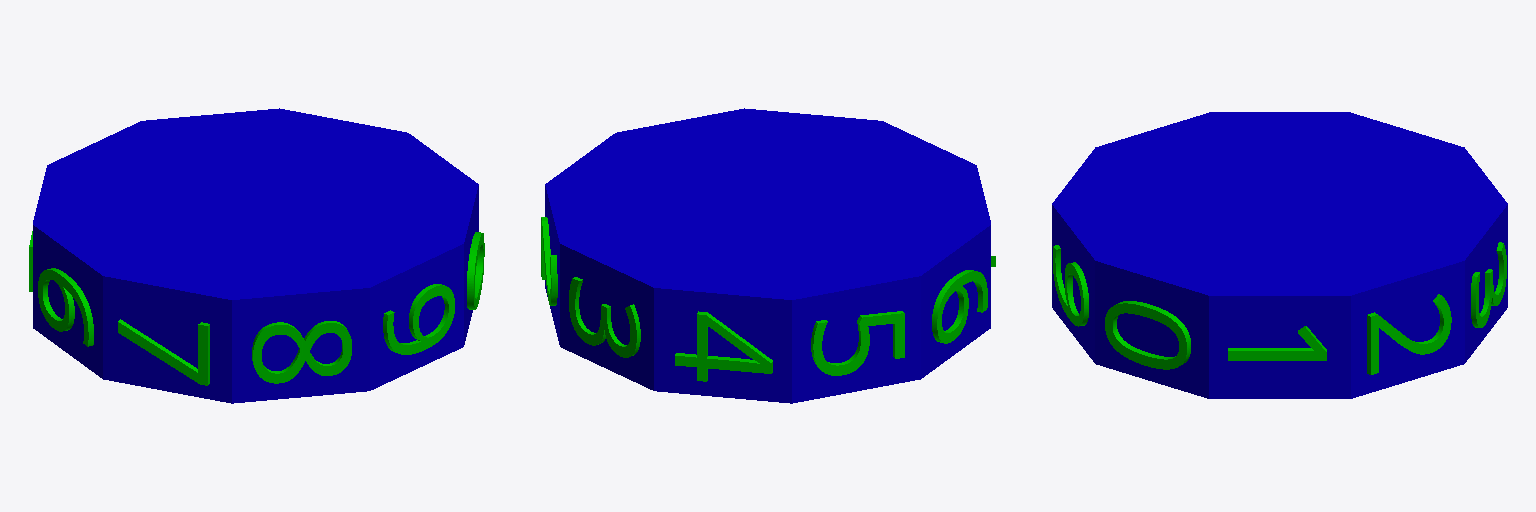
File: rotate_cylinder.obj
The picture shows the model from 3 angles: view 1: azimuth 30°, elevation 25°; view 2: azimuth 150°, elevation 25°; view 3: azimuth 270°, elevation 25°; orthographic projection.
Visible parts, largest first — view 1: Cylinder, Text.007, Text.008, Text.005, Text.006, Text.009; view 2: Cylinder, Text.003, Text.004, Text.002, Text.005, Text.001; view 3: Cylinder, Text.009, Text.001, Text.008, Text, Text.002.
Part boxes in pixels (x1,y1,x2,y2): Cylinder: (33, 108, 478, 403); Text.007: (252, 321, 351, 383); Text.008: (383, 284, 454, 354); Text.005: (38, 268, 93, 346); Text.006: (118, 319, 209, 385); Text.009: (467, 232, 484, 309); Cylinder: (545, 108, 990, 403); Text.003: (675, 311, 772, 381); Text.004: (811, 311, 904, 375); Text.002: (569, 277, 640, 357); Text.005: (932, 270, 987, 343); Text.001: (541, 217, 557, 305); Cylinder: (1052, 112, 1507, 398); Text.009: (1105, 301, 1190, 369); Text.001: (1367, 294, 1451, 374); Text.008: (1053, 245, 1088, 326); Text: (1228, 326, 1326, 360); Text.002: (1471, 242, 1506, 327).
Size of the model in its own units: 1.96 by 0.5 by 2.